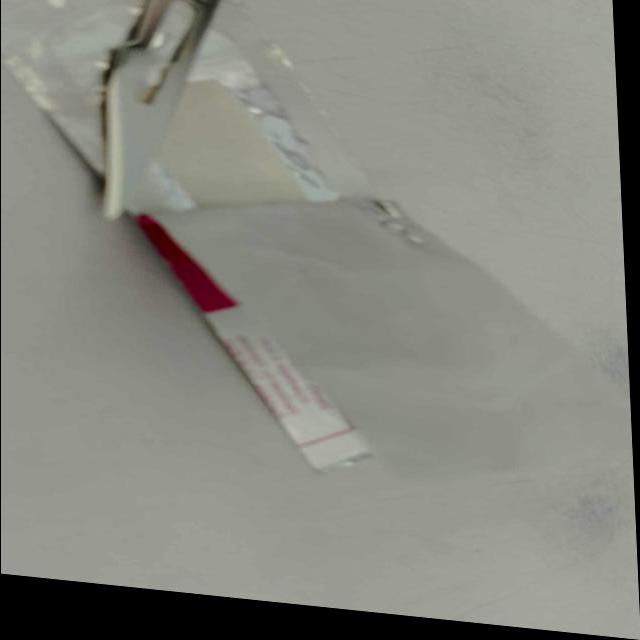General: (130, 194, 615, 484)
Pathological: (3, 3, 637, 638)
Sharps: (131, 212, 378, 476), (97, 2, 223, 222)
